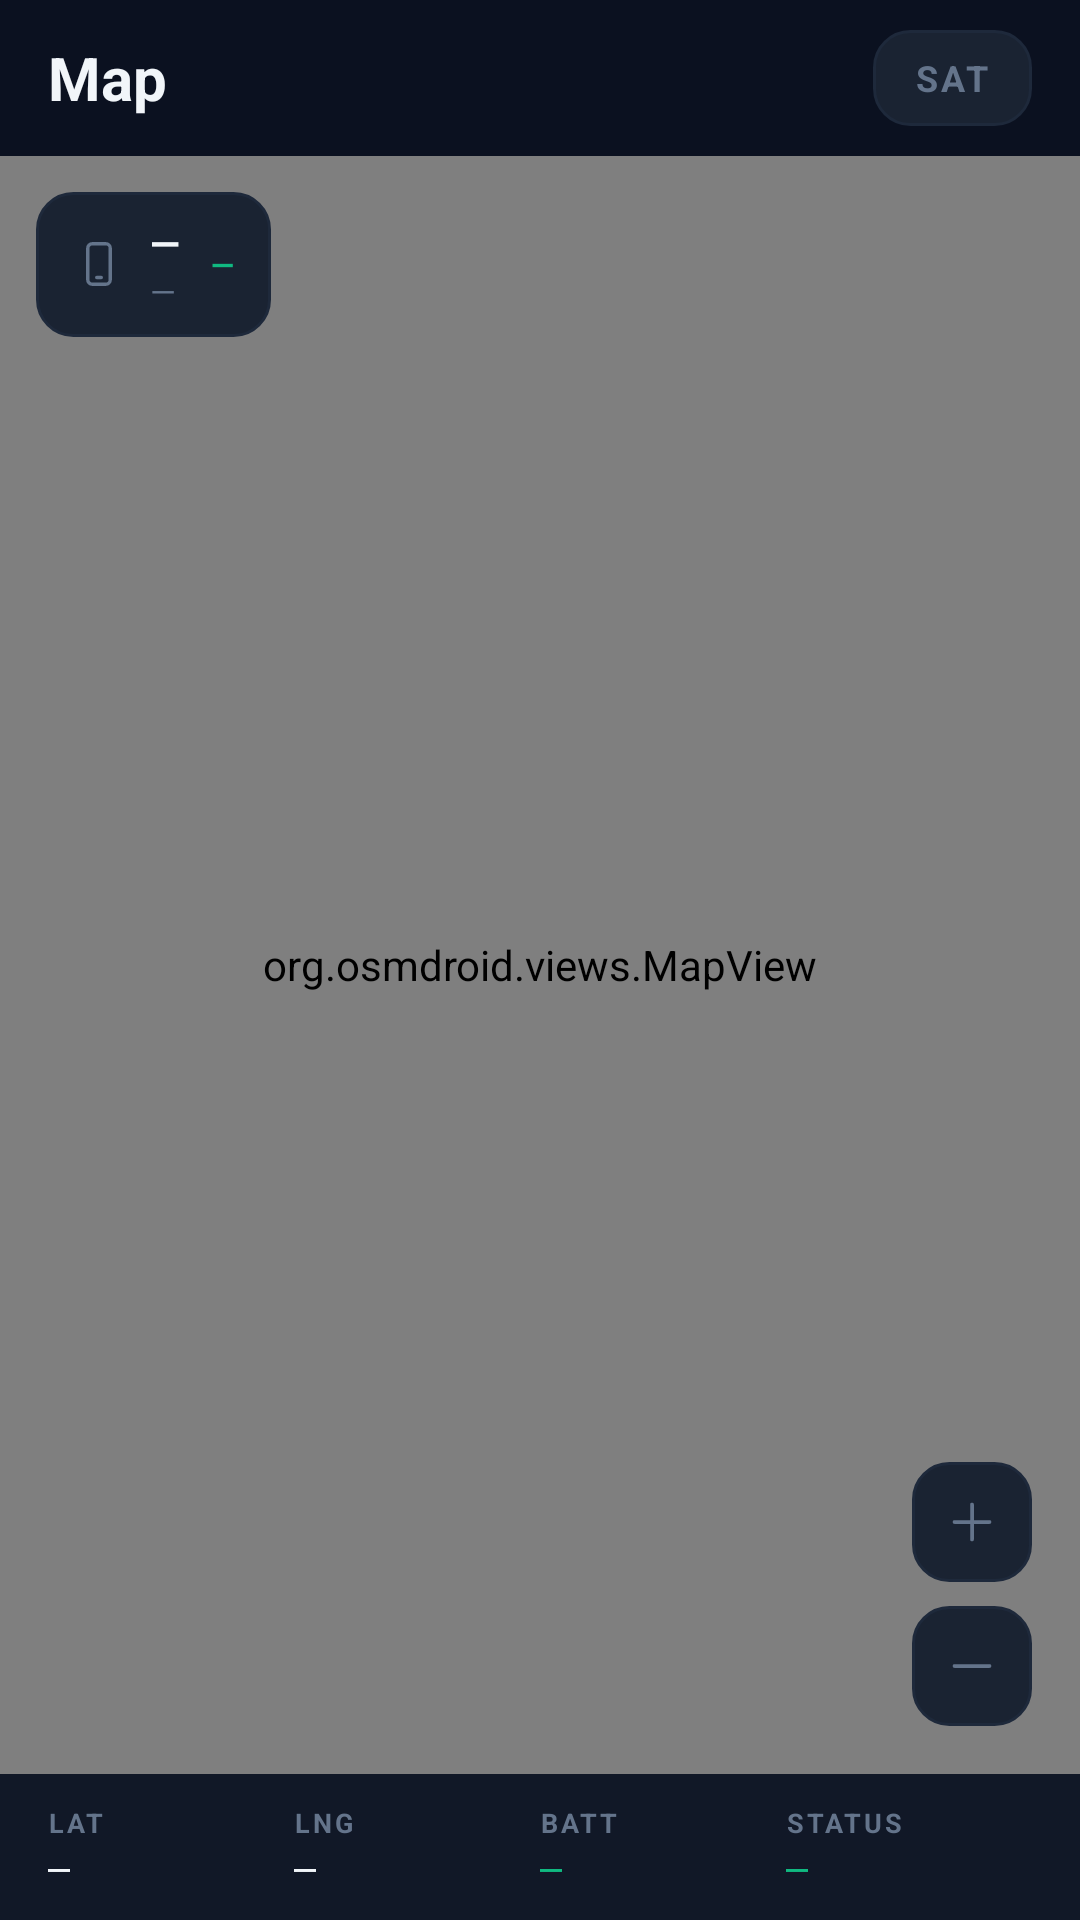

Named icons in this screenshot (1080 × 1920) and their bounding boxes, (x1, y1, x2, y2):
Device: (86, 242, 112, 286)
Zoom in: (912, 1462, 1032, 1582)
Zoom out: (912, 1606, 1032, 1726)
